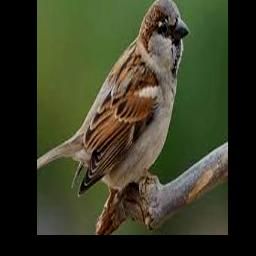Sparrow: (37, 0, 189, 197)
